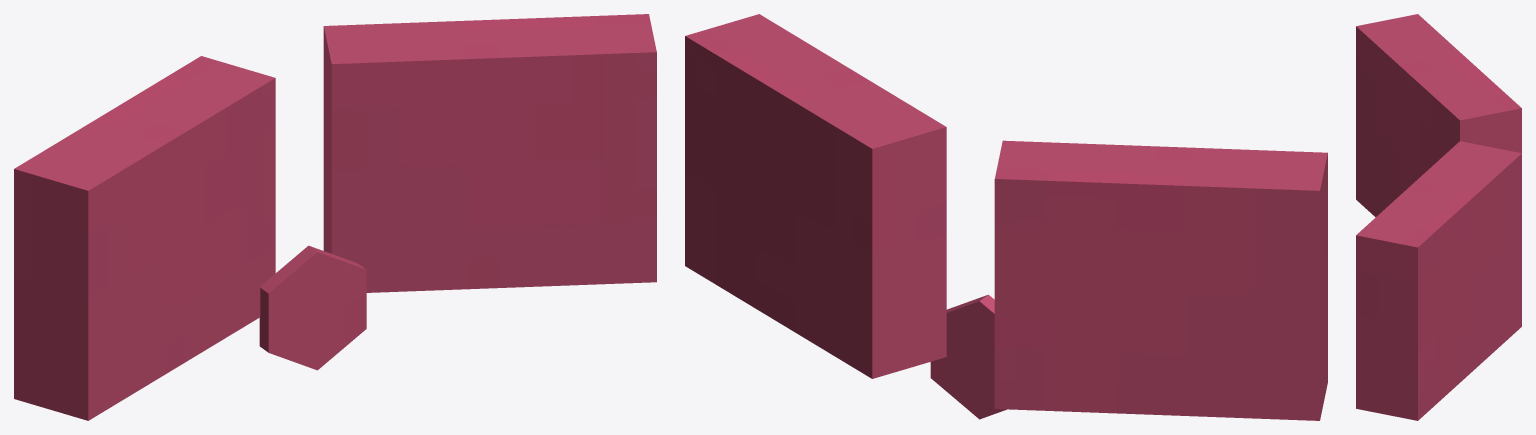
The model's file is acc_ribbon.glb.
3 views of the same model, side by side, from view 1: azimuth 30°, elevation 25°; view 2: azimuth 150°, elevation 25°; view 3: azimuth 270°, elevation 25° (orthographic). The views are drawn at different scales.
Visible parts, largest first — view 1: acc_ribbon; view 2: acc_ribbon; view 3: acc_ribbon.
Boxes of the visible parts, x1,y1,x2,y2 form: acc_ribbon: [14, 14, 656, 420]; acc_ribbon: [685, 14, 1327, 420]; acc_ribbon: [1356, 14, 1521, 420].
Bounding box in the file's own units: 0.2021 × 0.088 × 0.0607.
Materials: 1 (1 with a texture image).
